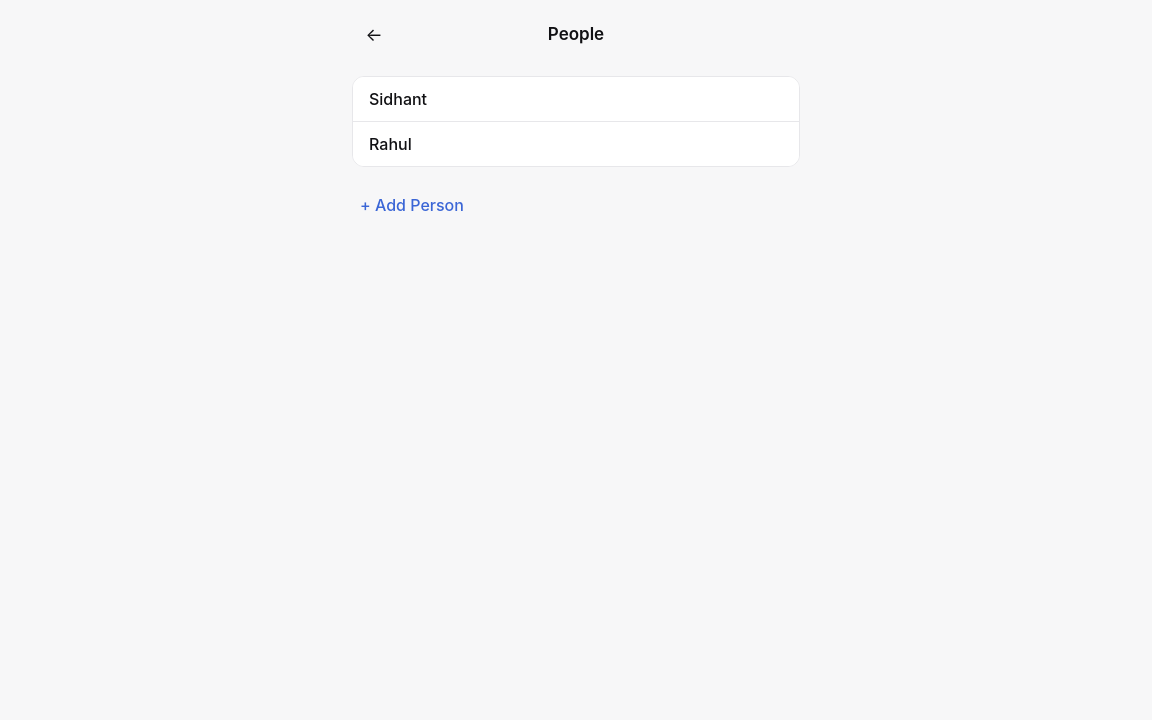
Test: PeopleScreen › shows active and inactive people, and requires the admin password to remove someone
The width and height of the screenshot is (1152, 720).
Click the button "Rahul": (390,144) [353,122,799,166]
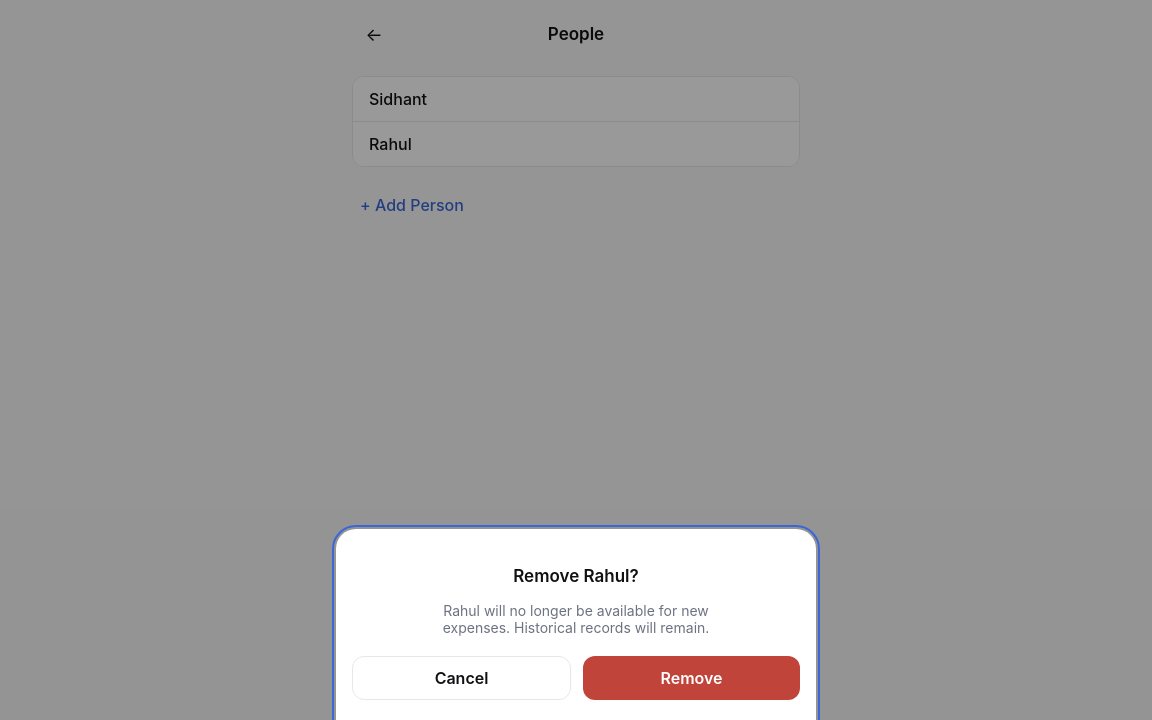
Expected: the text "Remove Rahul?" is shown, [513,566,639,586]
Click the button "Remove": (692,678) [583,656,800,700]
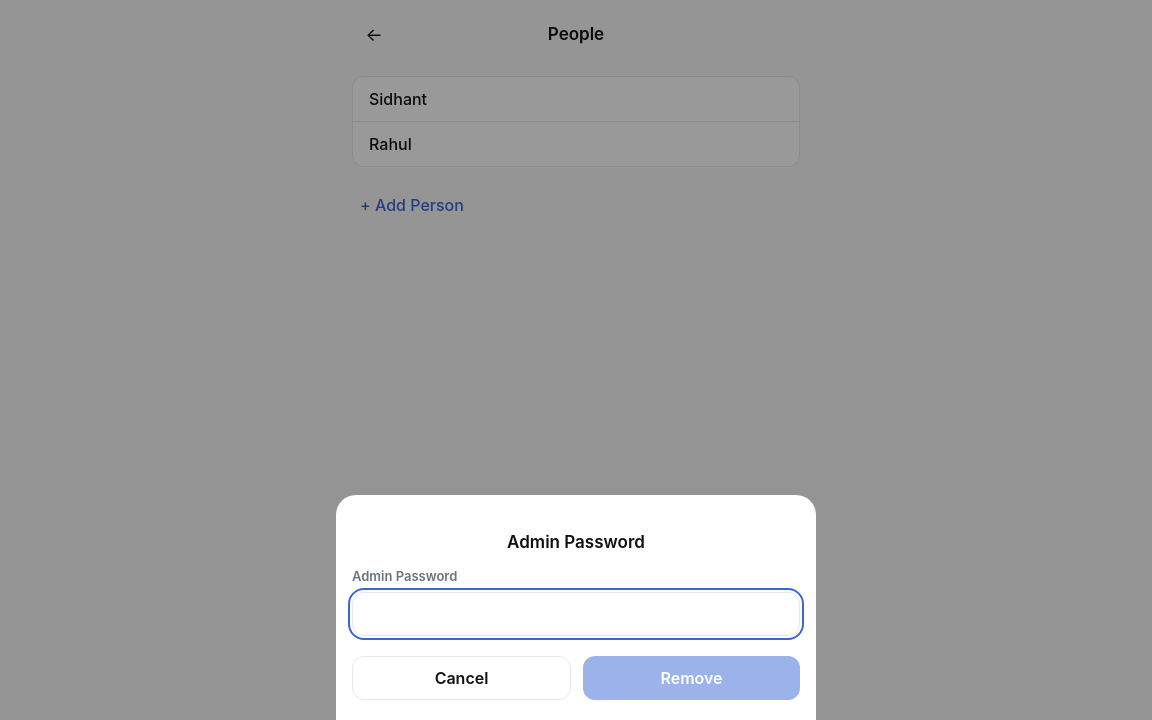
In the password field labelled "Admin Password": (576,614) [352,592,800,636], type "correct-password"
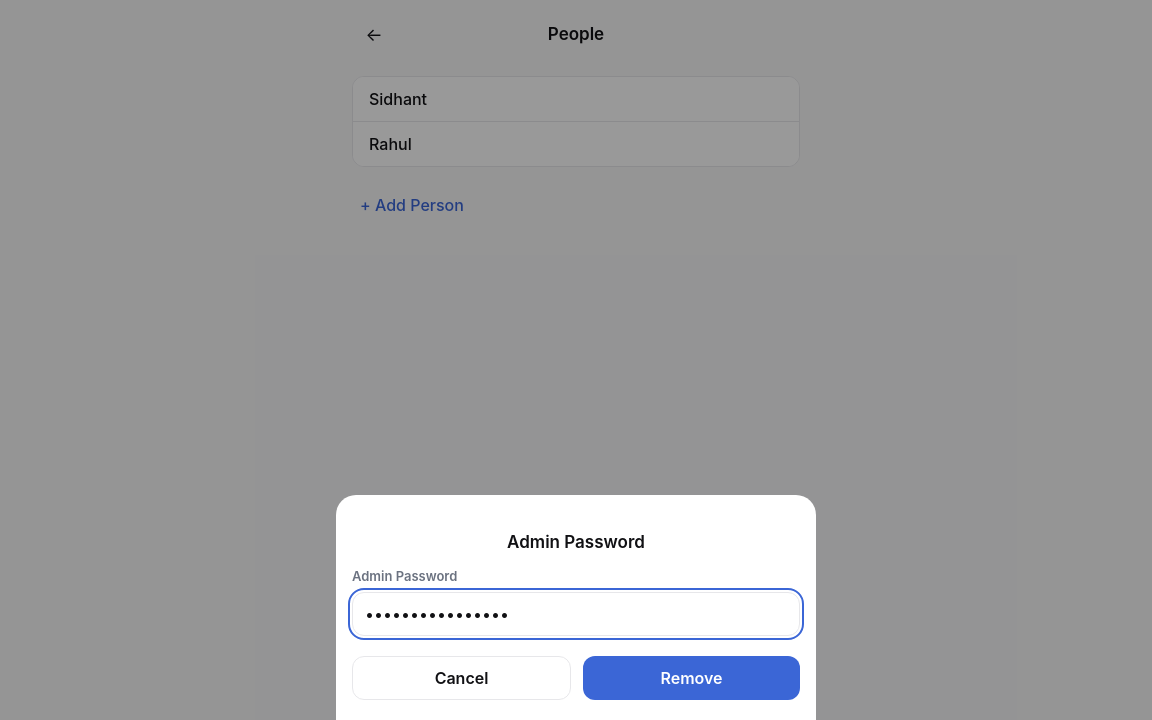
Click the button "Remove": (692,678) [583,656,800,700]
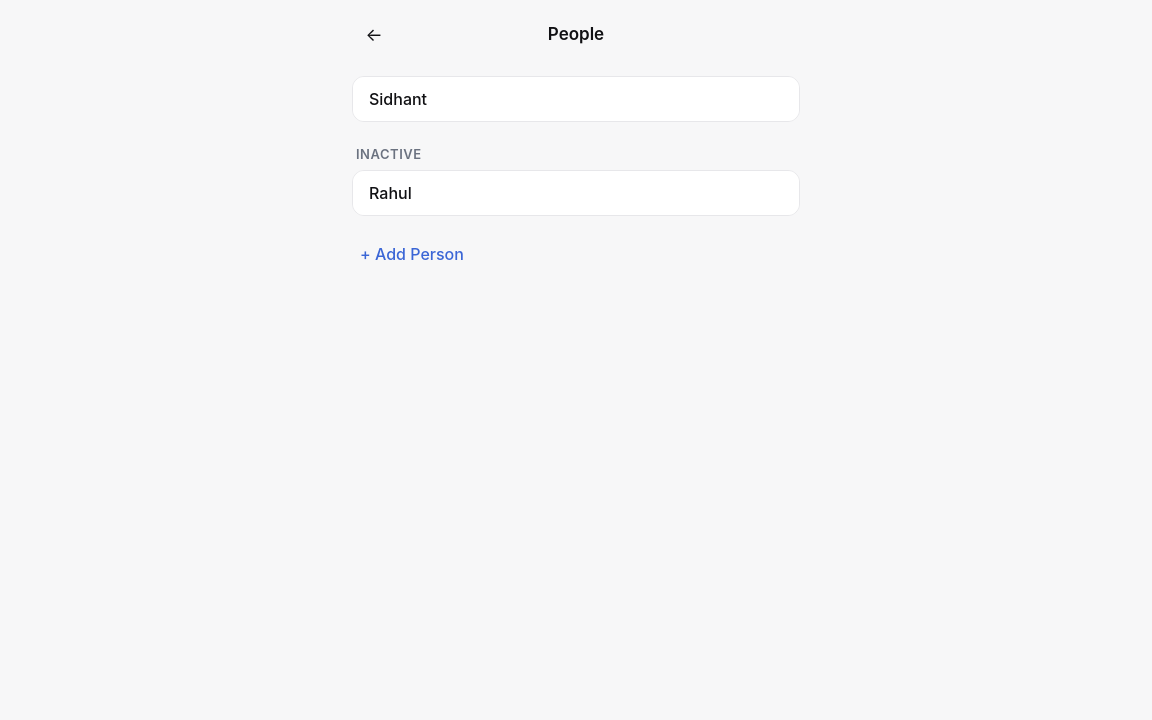
Expected: the heading "Inactive" is shown, [356,146,422,162]
